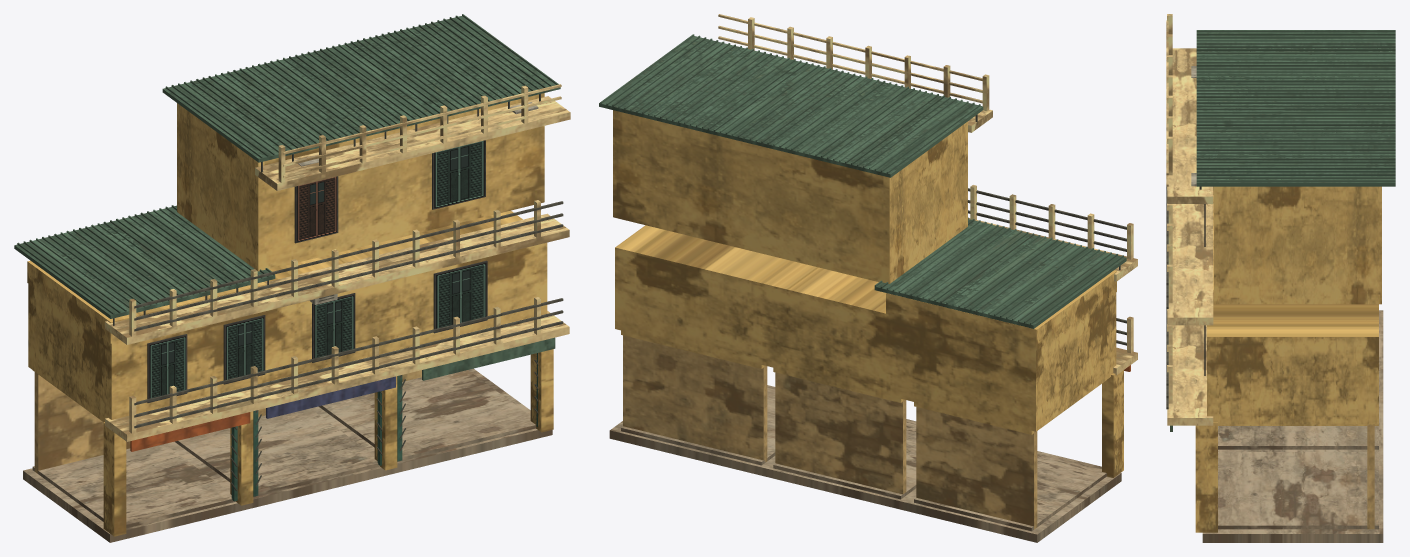
3 renders of one model, left to right at view 1: azimuth 30°, elevation 25°; view 2: azimuth 150°, elevation 25°; view 3: azimuth 270°, elevation 25°, orthographic. The views are drawn at different scales.
Visible parts, largest first — view 1: Architecture, Foundation, Storefront_fittings; view 2: Architecture, Foundation; view 3: Architecture, Foundation.
Boxes of the visible parts, left/top/right/bottom form: Architecture: left=14, top=14, right=570, bottom=536; Foundation: left=23, top=368, right=552, bottom=542; Storefront_fittings: left=126, top=337, right=555, bottom=491; Architecture: left=599, top=14, right=1137, bottom=531; Foundation: left=609, top=421, right=1121, bottom=542; Architecture: left=1166, top=14, right=1395, bottom=532; Foundation: left=1202, top=310, right=1383, bottom=542.
Bounding box in the file's own units: 13.12 × 10.31 × 5.6.
Materials: 1 (1 with a texture image).
